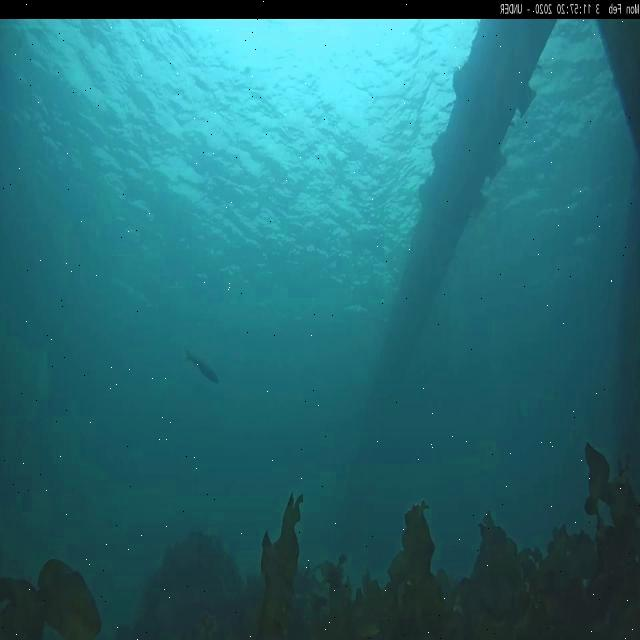fish: (187, 348, 220, 384)
